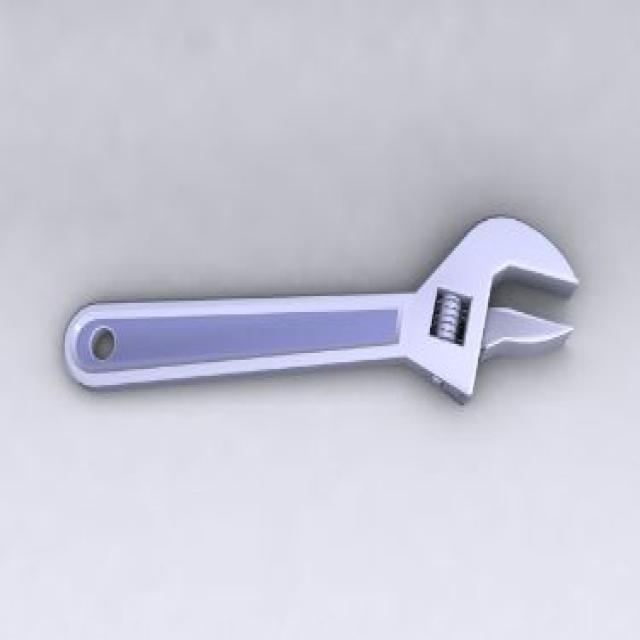wrench: (38, 181, 624, 442)
